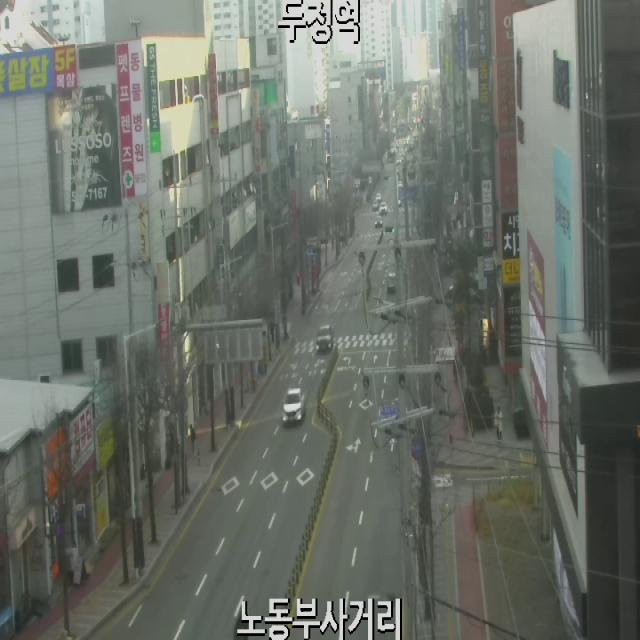Car: (282, 388, 304, 427), (316, 324, 334, 350), (380, 201, 388, 214), (375, 217, 383, 228), (372, 200, 380, 210), (375, 193, 382, 202)
